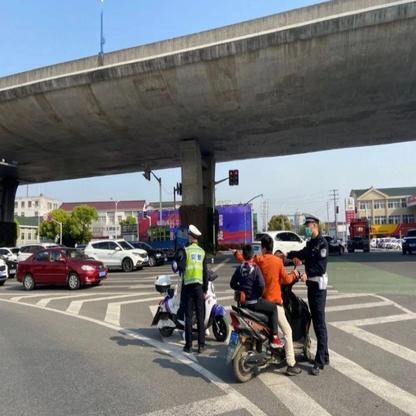target: (227, 234, 312, 383)
